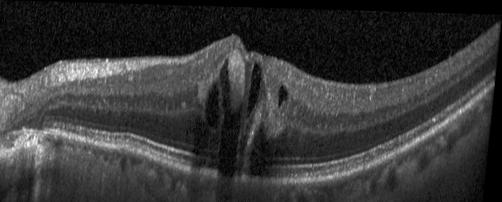intraretinal_cyst: (221, 57, 245, 175), (250, 60, 263, 114), (208, 82, 222, 128), (280, 84, 289, 106)
